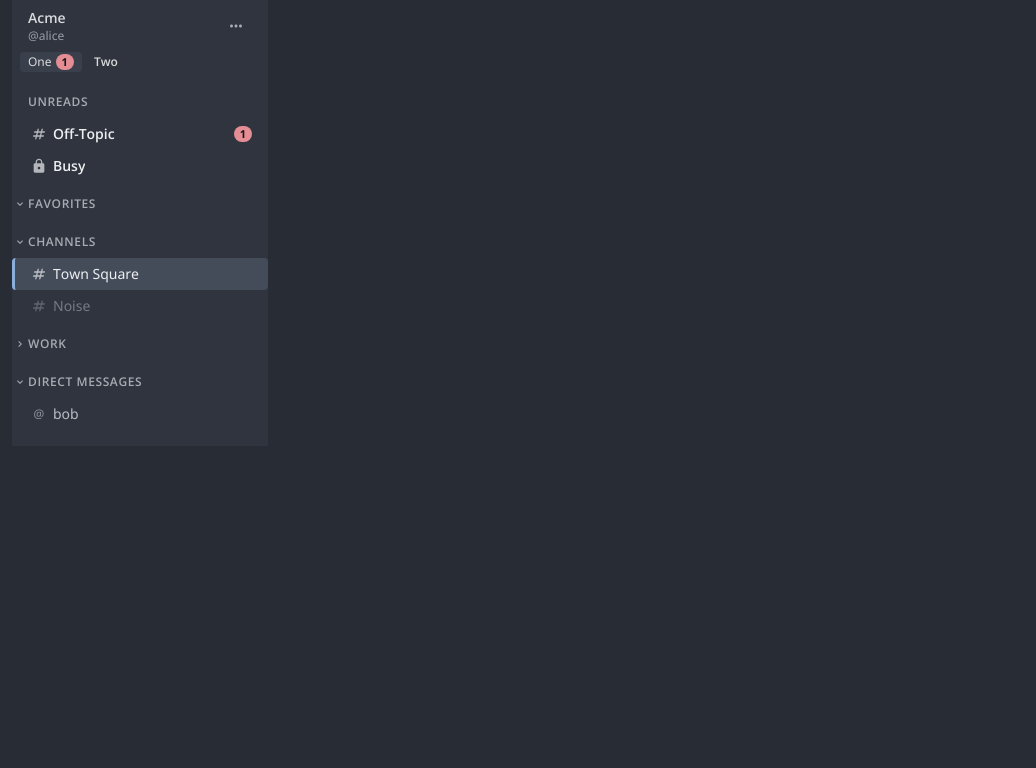
Test: server menu: a pointerdown outside the menu and its anchor closes it without stealing focus
Click the button named "Server menu" at (236, 26), box [220,10,252,42]
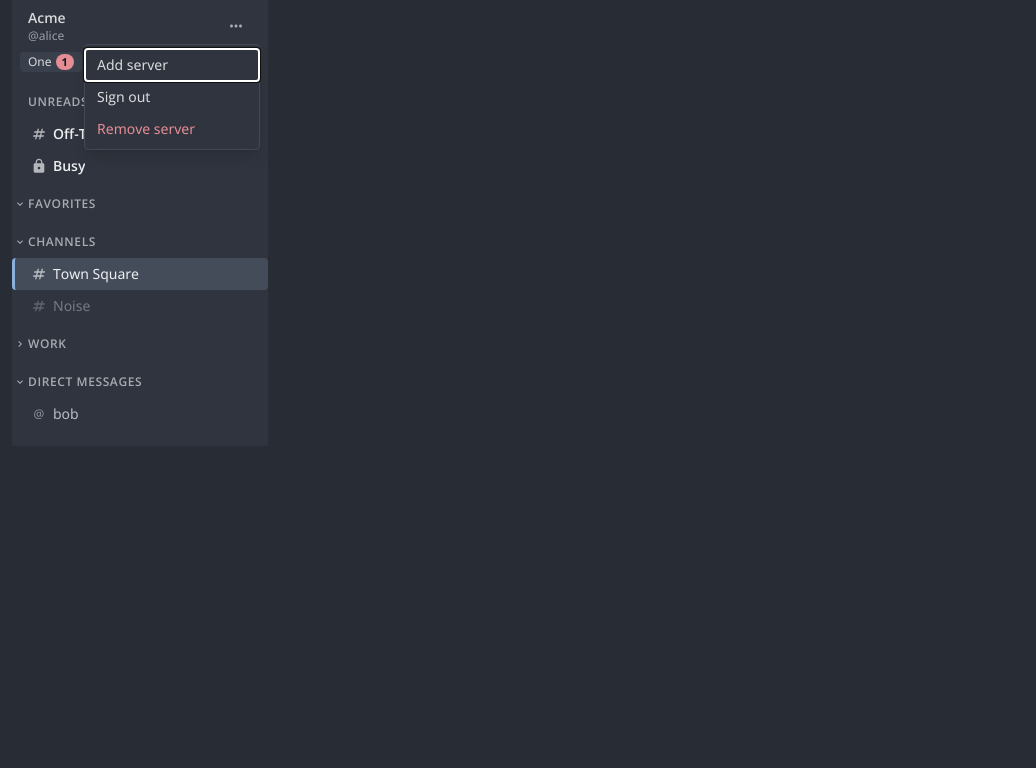
Now the menu is shown, box [84,44,260,150]
Press the mouse on the element that starts with "Acme" at (524, 384), box [12,0,1035,767]
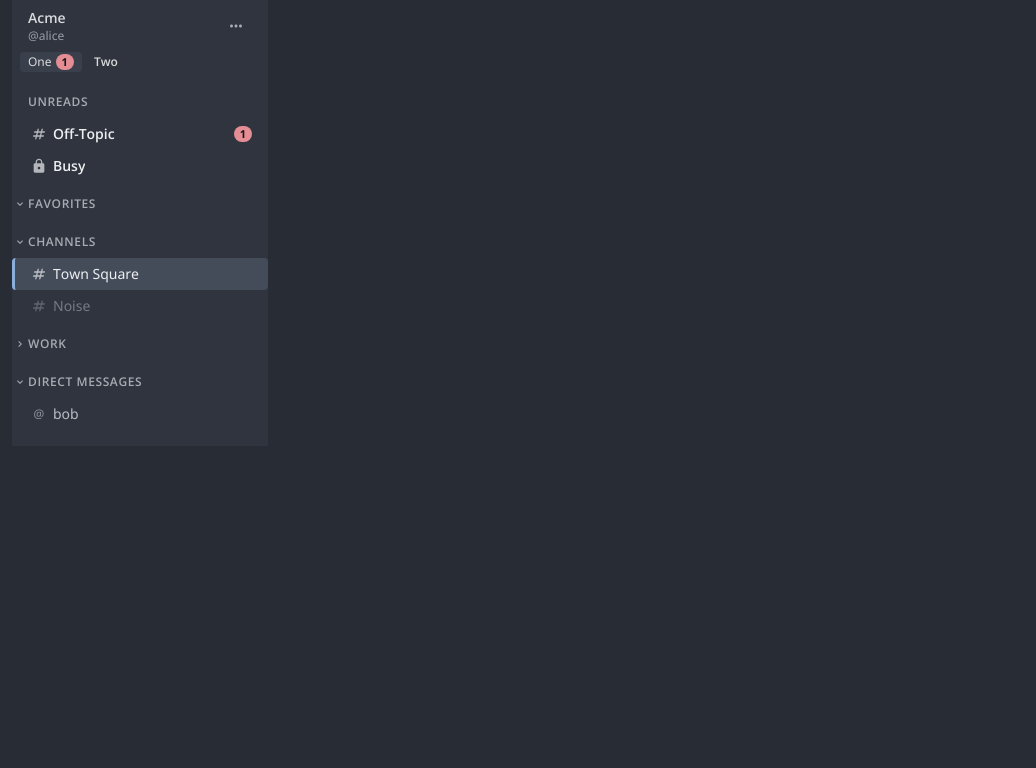
Now the menu is gone
